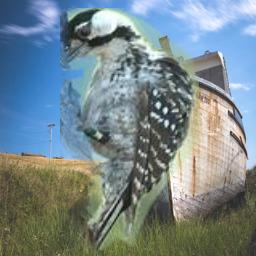Woodpecker: (60, 8, 199, 250)
